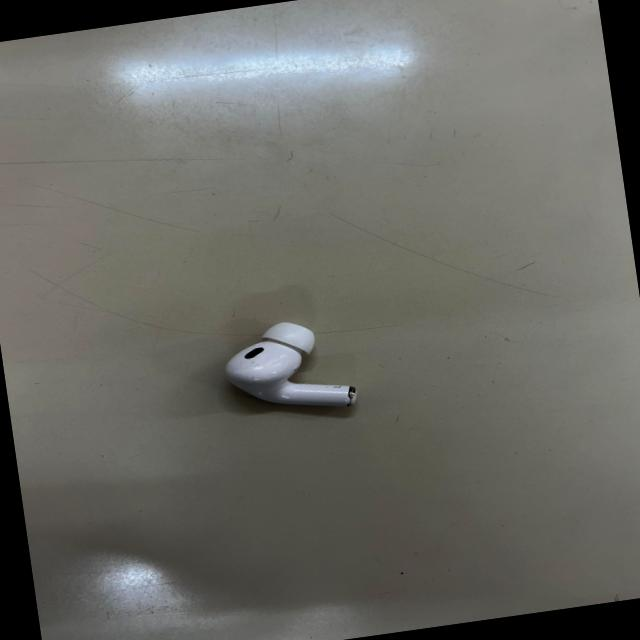inorganic: (220, 312, 364, 426)
